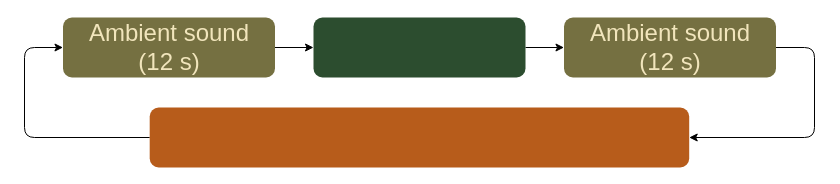
The diagram is 840 pixels wide and 184 high, and some of its shapes have lost their labels. The shapes that lost their labels are listed below. From the top down, each one's centre as x and y in pixels, then its label:
[419,47]: White noise (12 s)
[419,137]: Music (three 12 s excerpts of the same quadrant)
